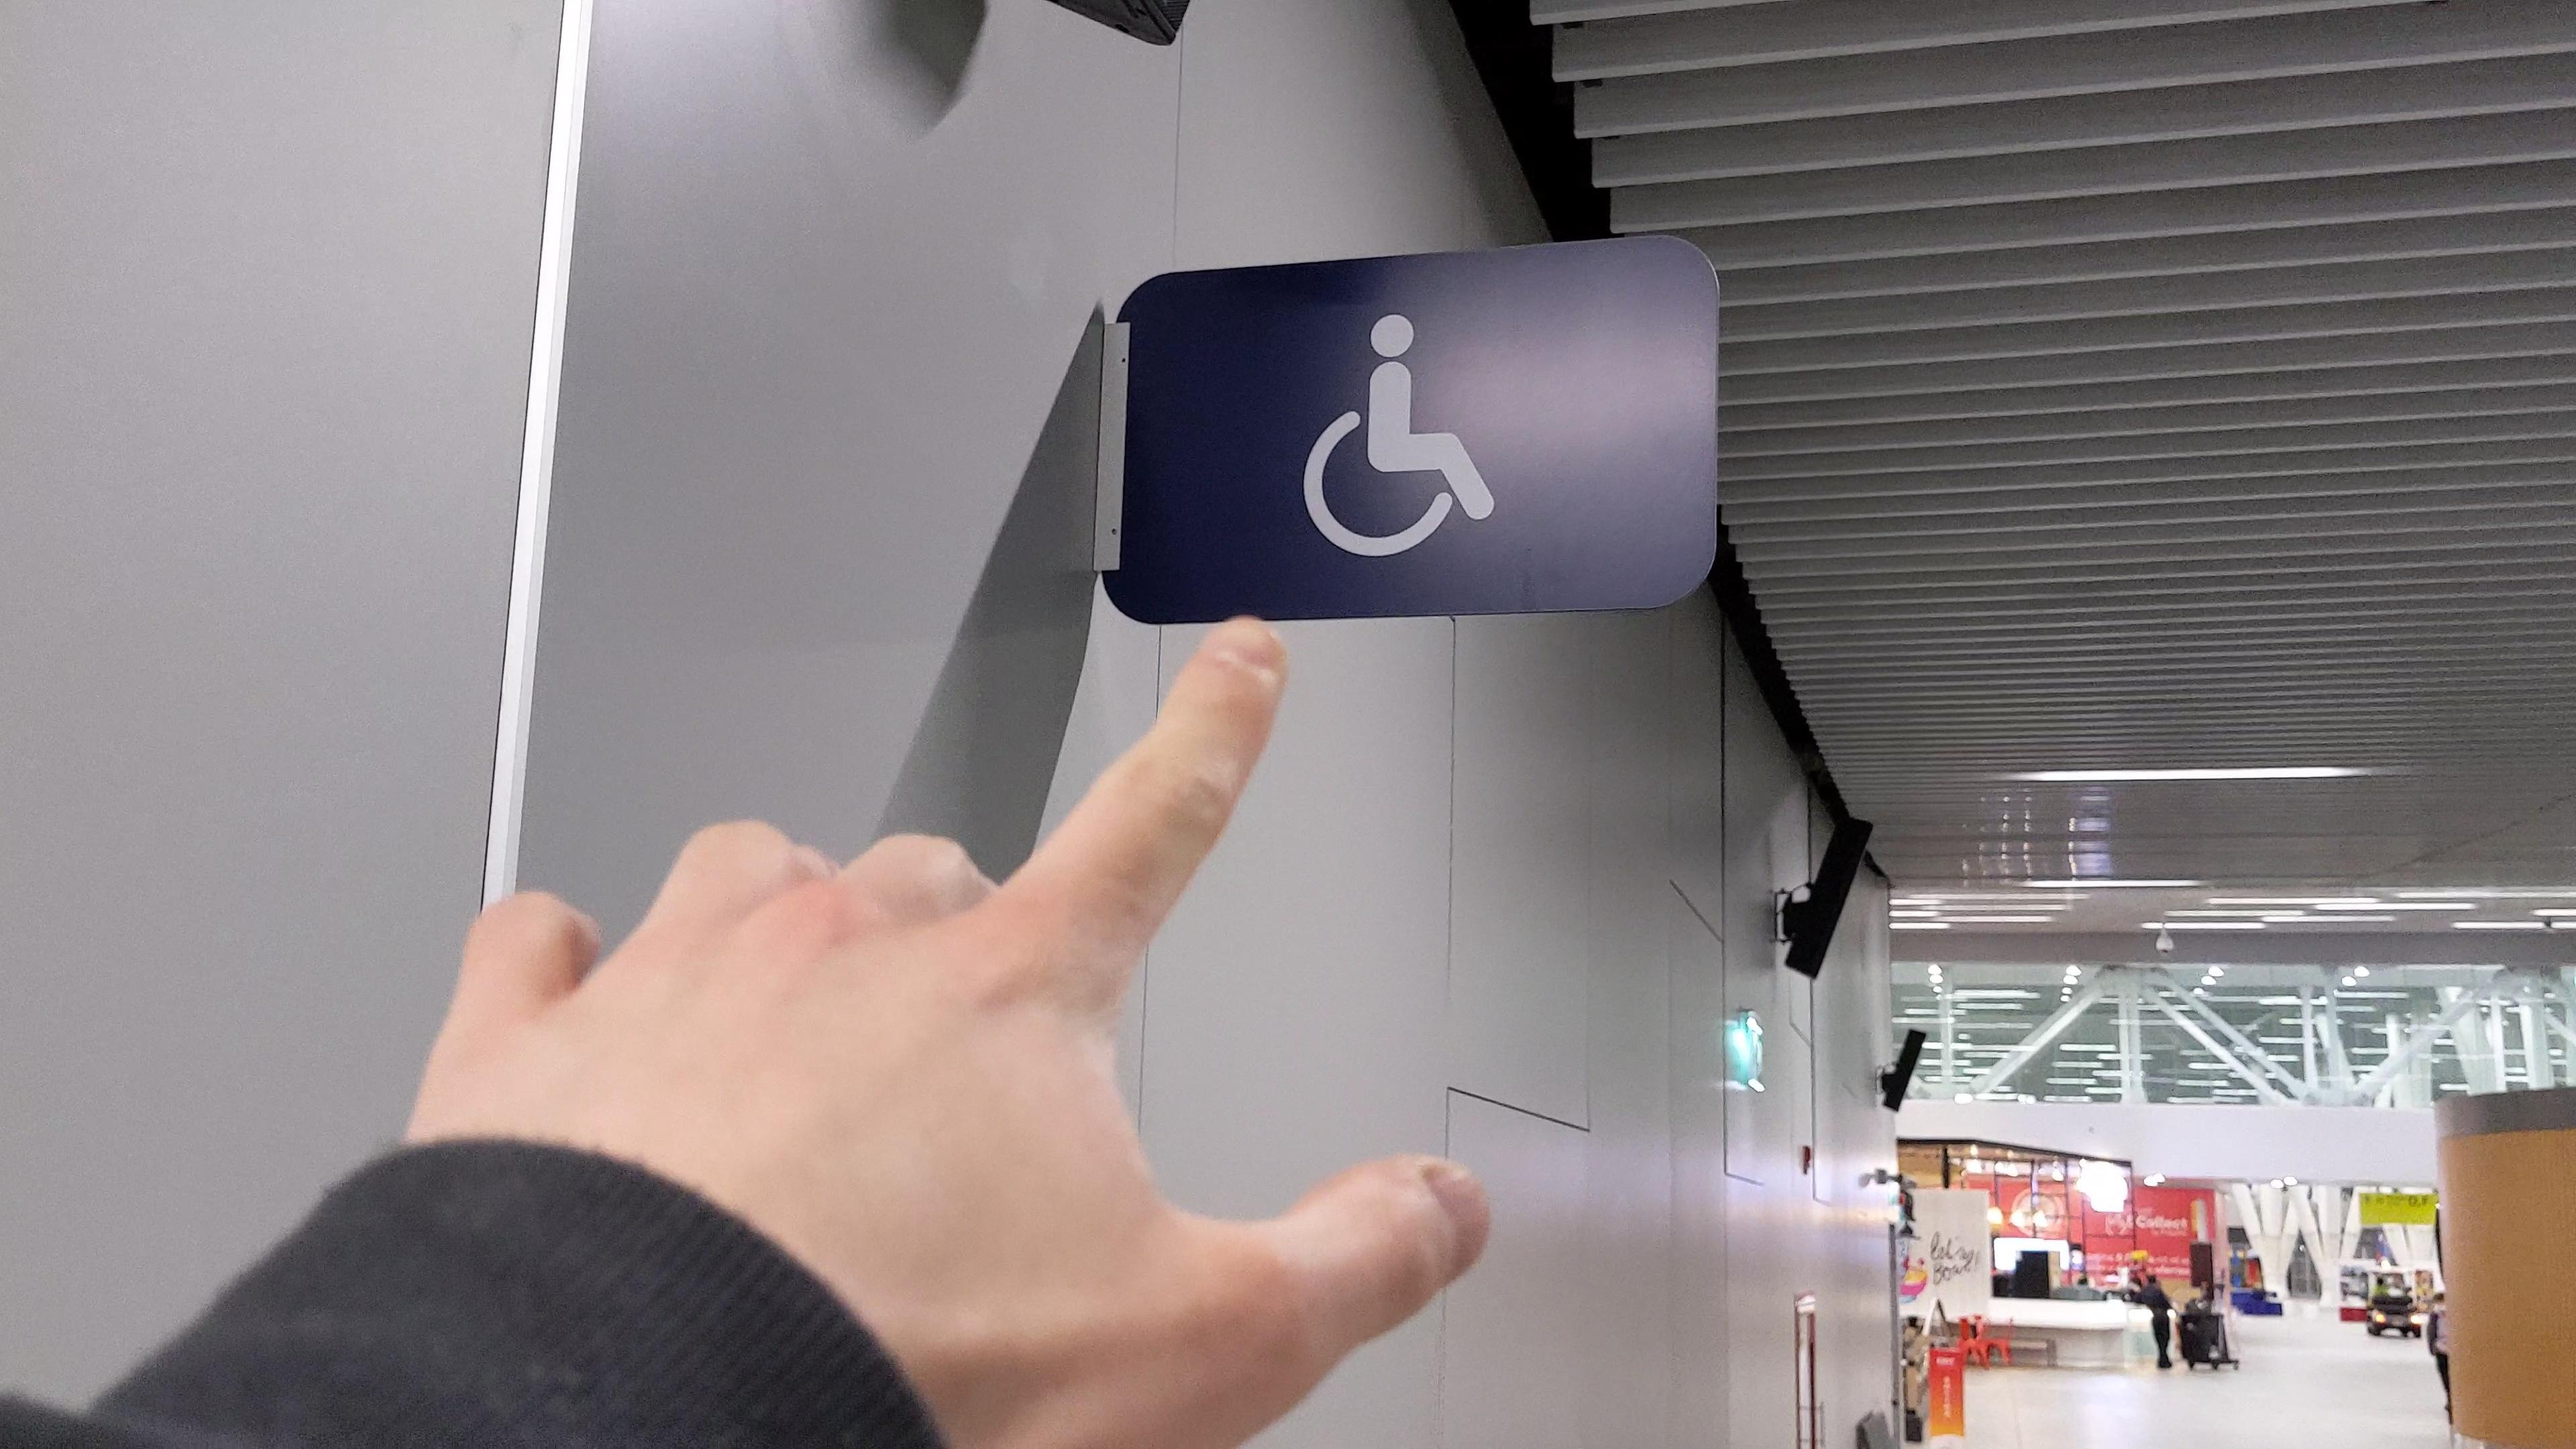handicapped symbol: (1295, 303, 1504, 568)
